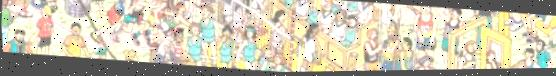waldo: (169, 27, 184, 45)
